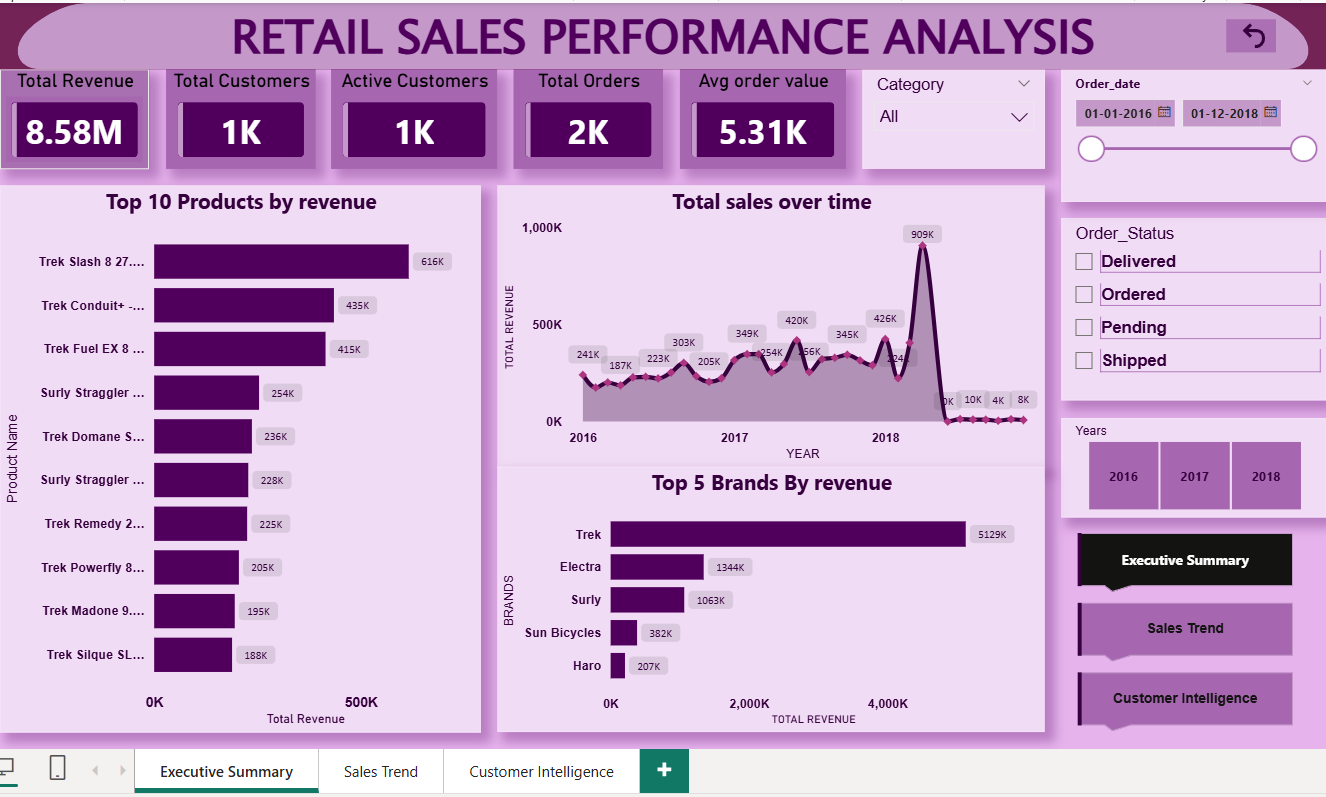

This screenshot's page, from the dashboard's own definition file:
{"tool":"powerbi","page":{"name":"Executive Summary","canvas":[1280,720],"ordinal":0},"visuals":[{"type":"cardVisual","title":"Total Revenue","fields":{"Data":["capstone brands.Total Revenue"]},"box":[0,64,144,96],"z":0},{"type":"cardVisual","title":"Total Customers","fields":{"Data":["capstone brands.Total Customers"]},"box":[160,64,144,96],"z":1000},{"type":"cardVisual","title":"Total Orders","fields":{"Data":["capstone brands.Total Orders"]},"box":[496,64,144,96],"z":2000},{"type":"cardVisual","title":"Active Customers","fields":{"Data":["capstone brands.Active Customers"]},"box":[320,64,160,96],"z":3000},{"type":"cardVisual","title":"Avg order value","fields":{"Data":["capstone brands.Average Order Value"]},"box":[656,64,160,96],"z":4000},{"type":"lineChart","title":"Total sales over time","fields":{"Y":["capstone brands.Total Revenue"],"Category":["capstone orders.Order_date (bins)","capstone orders.Order_date (bins) 2"]},"box":[480,176,528,272],"z":5000},{"type":"slicer","fields":{"Values":["capstone orders.Order_Status2"]},"box":[1024,208,256,176],"z":6000},{"type":"slicer","fields":{"Values":["capstone customers.City"]},"box":[832,64,176,96],"z":7000},{"type":"clusteredBarChart","title":"Top 10 Products by revenue","fields":{"Category":["capstone products.Product_name"],"Y":["capstone brands.Total Revenue"]},"box":[0,176,464,528],"z":8000},{"type":"slicer","fields":{"Values":["capstone orders.Order_date (bins)"]},"box":[1024,64,256,128],"z":9000},{"type":"slicer","fields":{"Values":["capstone orders.Order_date (bins)"]},"box":[1024,400,256,96],"z":10000},{"type":"actionButton","box":[80,16,48,48],"z":11000},{"type":"shape","box":[0,0,1280,64],"z":12000},{"type":"clusteredBarChart","title":"Top 5 Brands By revenue","fields":{"Category":["capstone brands.Brand_name"],"Y":["capstone brands.Total Revenue"]},"box":[480,448,528,256],"z":13000},{"type":"pageNavigator","box":[1040,512,208,192],"z":14000},{"type":"actionButton","box":[1184,16,48,32],"z":15000}]}

Visuals, with their boxes on the page's 1280x720 design canvas (x1, y1, x2, y2). These are canvas units, not pixel positions in the 1326x797 screenshot, which may show the page scaled, cropped or inside an application window:
"Total Revenue" cardVisual: select_region(0, 64, 144, 160)
"Total Customers" cardVisual: select_region(160, 64, 304, 160)
"Total Orders" cardVisual: select_region(496, 64, 640, 160)
"Active Customers" cardVisual: select_region(320, 64, 480, 160)
"Avg order value" cardVisual: select_region(656, 64, 816, 160)
"Total sales over time" lineChart: select_region(480, 176, 1008, 448)
slicer - capstone orders.Order_Status2: select_region(1024, 208, 1280, 384)
slicer - capstone customers.City: select_region(832, 64, 1008, 160)
"Top 10 Products by revenue" clusteredBarChart: select_region(0, 176, 464, 704)
slicer - capstone orders.Order_date (bins): select_region(1024, 64, 1280, 192)
slicer - capstone orders.Order_date (bins): select_region(1024, 400, 1280, 496)
actionButton: select_region(80, 16, 128, 64)
shape: select_region(0, 0, 1280, 64)
"Top 5 Brands By revenue" clusteredBarChart: select_region(480, 448, 1008, 704)
pageNavigator: select_region(1040, 512, 1248, 704)
actionButton: select_region(1184, 16, 1232, 48)
